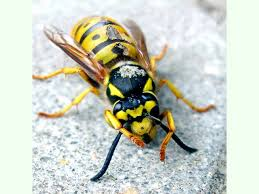chax: (31, 9, 223, 183)
